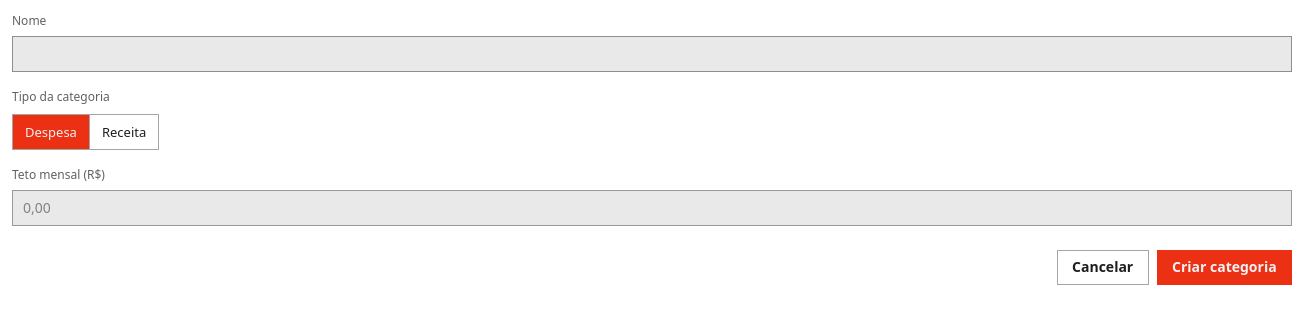
Scenario: CategoryForm › mode="create" (padrão) › nome duplicado (422 name-conflict) exibe erro inline no campo nome
This screenshot has width=1304, height=328.
Step 1. Type "Viagem" into the field labelled "Nome" → x=652, y=54, box [12,36,1292,72]
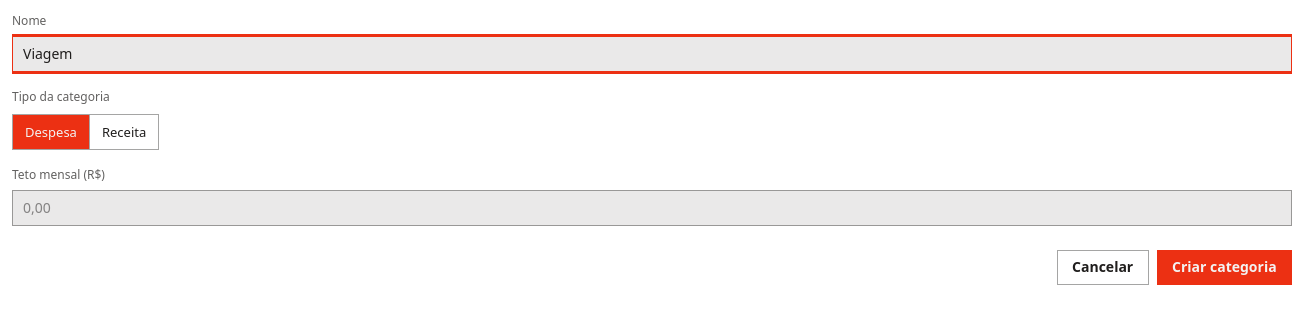
Step 2. Click the button "Criar categoria" → x=1224, y=267, box [1157,250,1292,285]
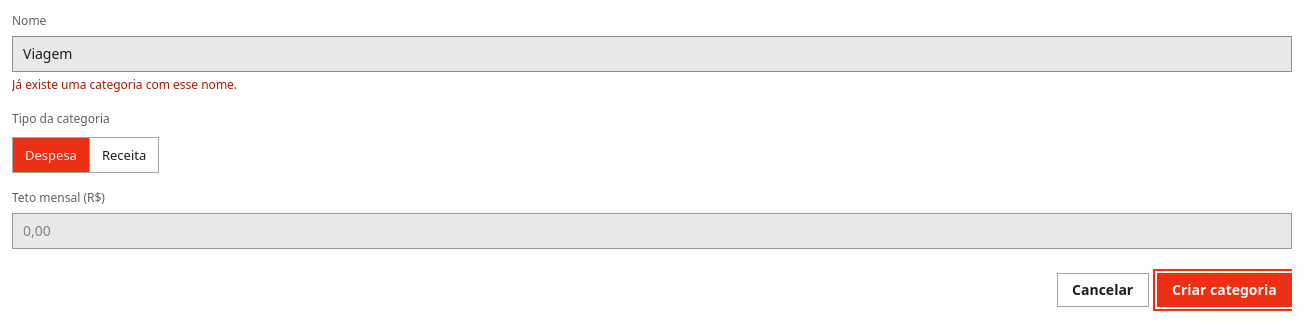
Result: the text "Já existe uma categoria com esse nome." is shown at [12,76,237,93]
